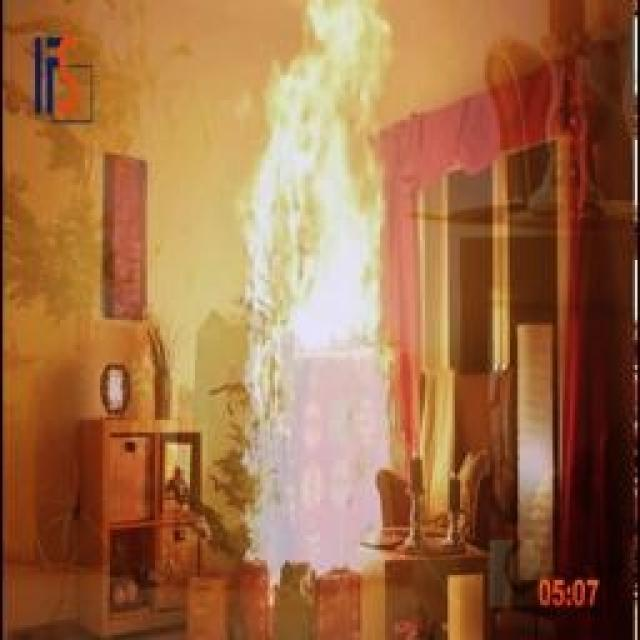fire: (203, 0, 415, 568)
